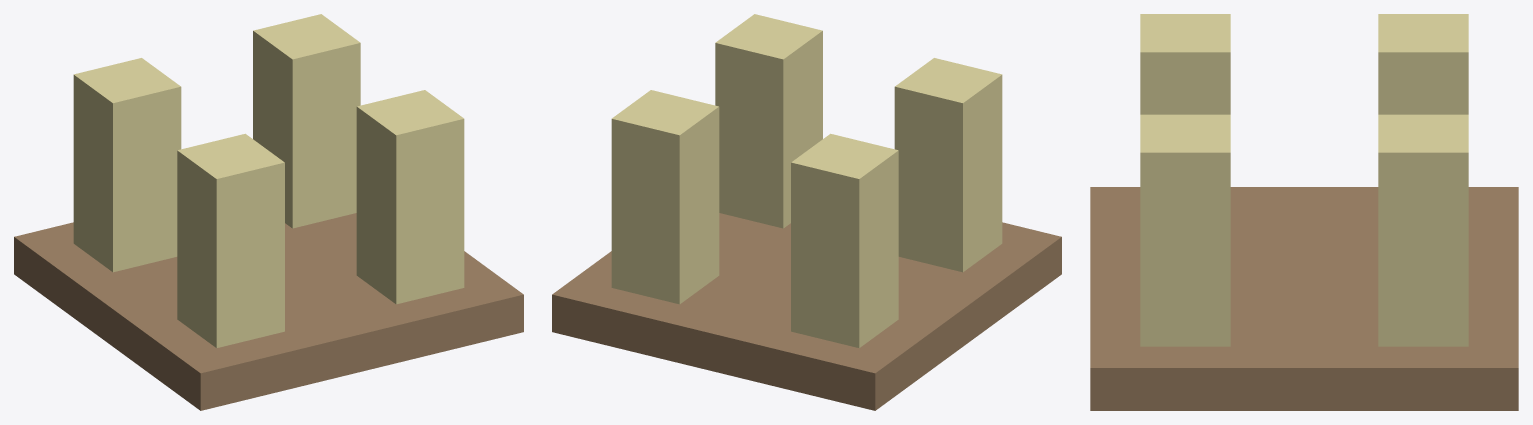
The model's file is Prop_DS_Crop_Spudlet_S3_V1.glb.
The picture shows the model from 3 angles, left to right: view 1: azimuth 30°, elevation 25°; view 2: azimuth 150°, elevation 25°; view 3: azimuth 270°, elevation 25°; orthographic projection. The views are drawn at different scales.
Visible parts, largest first — view 1: Cube, Cube.003, Cube.001, Cube.002, Cube.004; view 2: Cube, Cube.004, Cube.002, Cube.001, Cube.003; view 3: Cube, Cube.003, Cube.004, Cube.001, Cube.002.
Boxes of the visible parts, bbox=[...] form: Cube: bbox=[14, 213, 523, 410]; Cube.003: bbox=[356, 90, 464, 304]; Cube.001: bbox=[177, 133, 284, 348]; Cube.002: bbox=[73, 58, 181, 272]; Cube.004: bbox=[253, 14, 360, 228]; Cube: bbox=[552, 213, 1061, 410]; Cube.004: bbox=[611, 90, 719, 304]; Cube.002: bbox=[791, 133, 898, 348]; Cube.001: bbox=[894, 58, 1002, 272]; Cube.003: bbox=[715, 14, 822, 228]; Cube: bbox=[1090, 187, 1518, 410]; Cube.003: bbox=[1140, 114, 1230, 346]; Cube.004: bbox=[1378, 114, 1468, 346]; Cube.001: bbox=[1140, 14, 1230, 114]; Cube.002: bbox=[1378, 14, 1468, 114].
Size of the model in its own units: 0.9 by 0.55 by 0.9.
